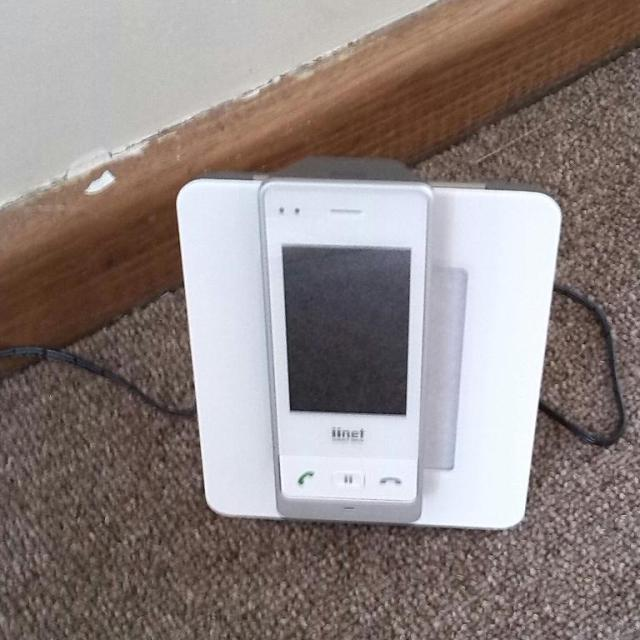Mobile-phone: (254, 182, 435, 524)
